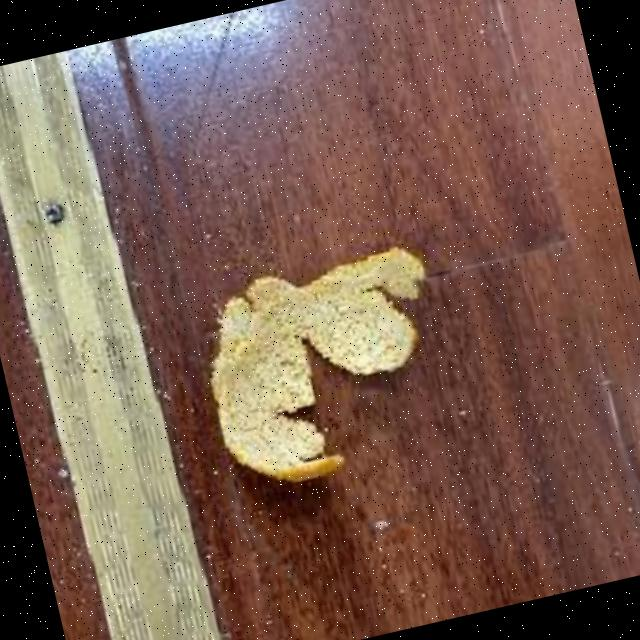orange-peel: (182, 231, 468, 500)
